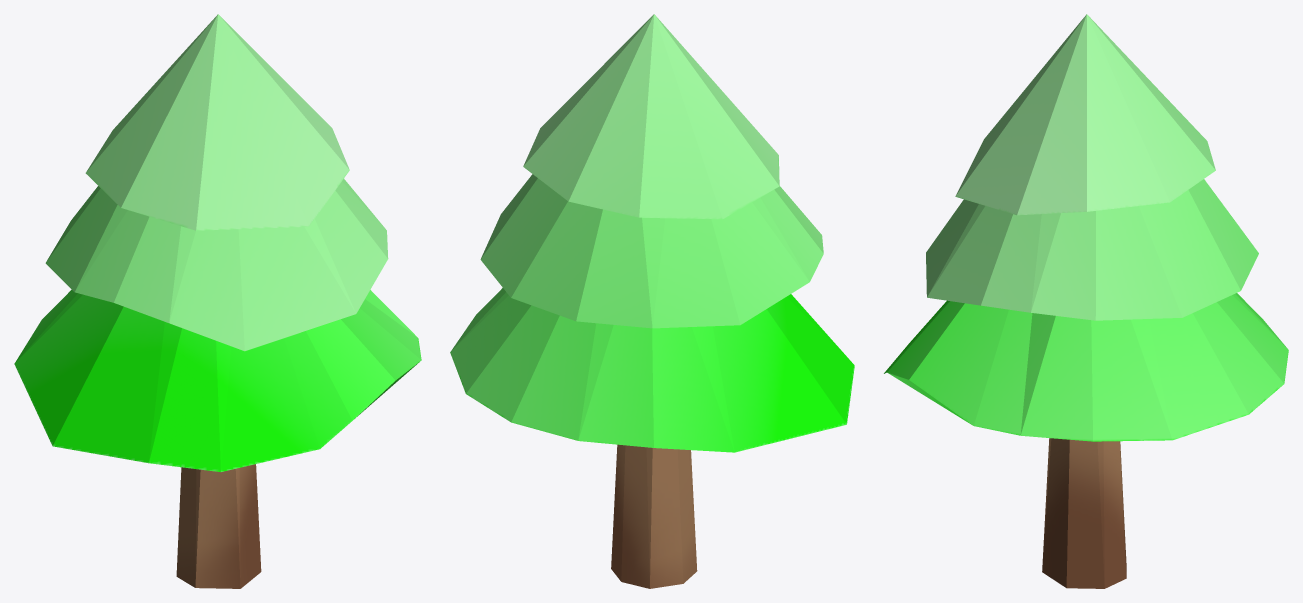
Rendered from tree_001.obj.
3 renders of one model, left to right at view 1: azimuth 30°, elevation 25°; view 2: azimuth 150°, elevation 25°; view 3: azimuth 270°, elevation 25°, orthographic.
Parts seen in each view (by area): view 1: mesh_0; view 2: mesh_0; view 3: mesh_0.
Boxes of the visible parts, x1,y1,x2,y2 form: mesh_0: [14, 14, 421, 588]; mesh_0: [450, 14, 854, 588]; mesh_0: [884, 14, 1288, 588].
Size of the model in its own units: 0.6652 by 1 by 0.6587.
Materials: 1 (1 with a texture image).
